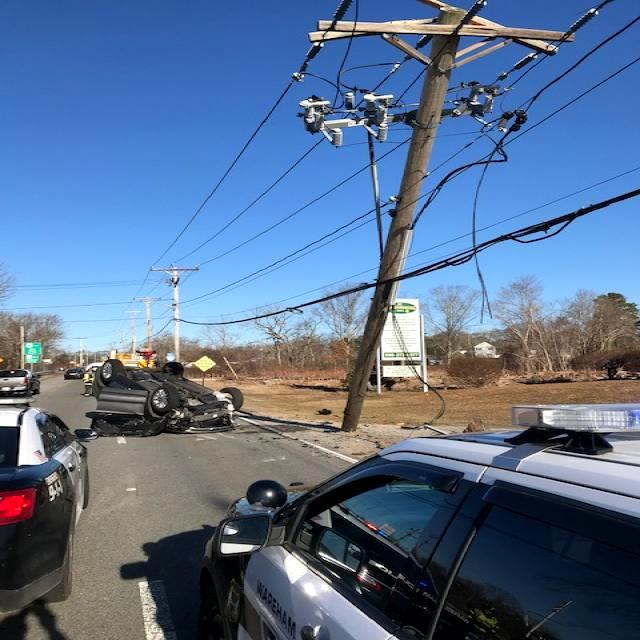Broken Pole: (290, 0, 554, 421)
